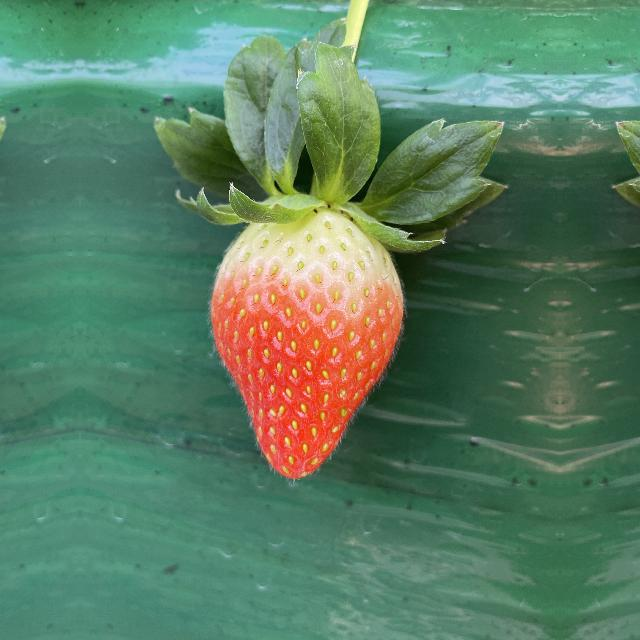Health_75: (194, 203, 410, 492)
